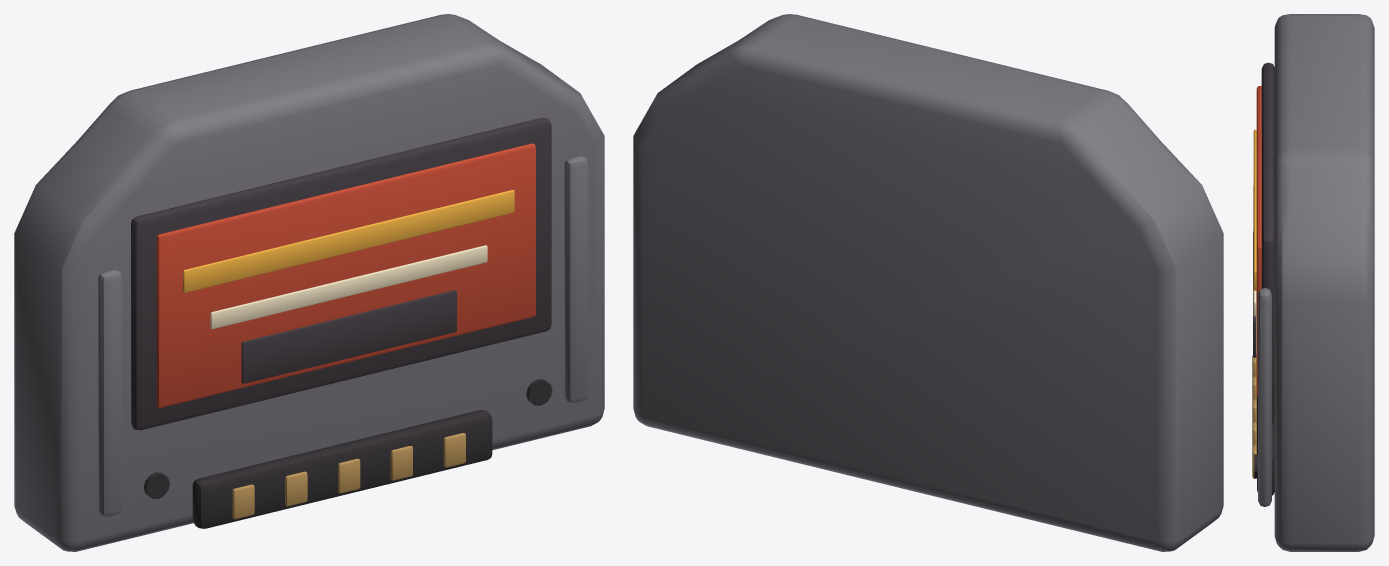
Rendered from n64-cartridge-original.glb.
The picture shows the model from 3 angles, left to right: view 1: azimuth 30°, elevation 25°; view 2: azimuth 150°, elevation 25°; view 3: azimuth 270°, elevation 25°; orthographic projection. The views are drawn at different scales.
Parts seen in each view (by area): view 1: Cartridge shell, Label face, Label recess, Connector recess, Dark title block, Amber stripe, Molded side rail.001, Molded side rail, Cream stripe, Contact.002, Contact.001, Contact (+2 smaller); view 2: Cartridge shell; view 3: Cartridge shell, Label recess, Molded side rail.001, Label face, Amber stripe, Connector recess, Dark title block, Cream stripe.
Boxes of the visible parts, left/top/right/bottom form: Cartridge shell: left=14, top=14, right=604, bottom=551; Label face: left=156, top=143, right=535, bottom=407; Label recess: left=131, top=118, right=551, bottom=430; Connector recess: left=192, top=410, right=492, bottom=528; Dark title block: left=241, top=290, right=456, bottom=383; Amber stripe: left=183, top=190, right=514, bottom=292; Molded side rail.001: left=564, top=156, right=588, bottom=402; Molded side rail: left=98, top=270, right=121, bottom=516; Cream stripe: left=210, top=245, right=487, bottom=329; Contact.002: left=338, top=458, right=360, bottom=493; Contact.001: left=285, top=471, right=307, bottom=506; Contact: left=232, top=484, right=254, bottom=519; Cartridge shell: left=633, top=14, right=1223, bottom=551; Cartridge shell: left=1274, top=14, right=1374, bottom=551; Label recess: left=1261, top=62, right=1274, bottom=423; Molded side rail.001: left=1258, top=288, right=1271, bottom=506; Label face: left=1256, top=86, right=1261, bottom=397; Amber stripe: left=1253, top=129, right=1256, bottom=290; Connector recess: left=1257, top=396, right=1274, bottom=495; Dark title block: left=1253, top=231, right=1256, bottom=357; Cream stripe: left=1253, top=185, right=1256, bottom=316.
Bounding box in the file's own units: 3 × 2.13 × 0.6595.
